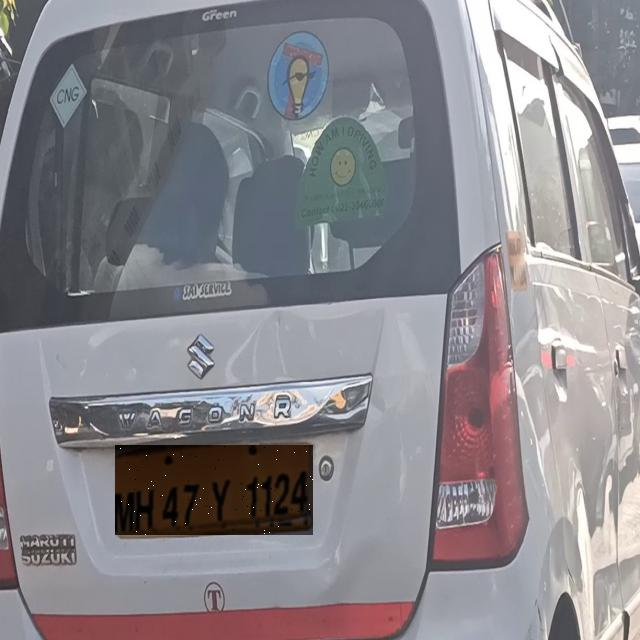Plate: (116, 446, 314, 536)
